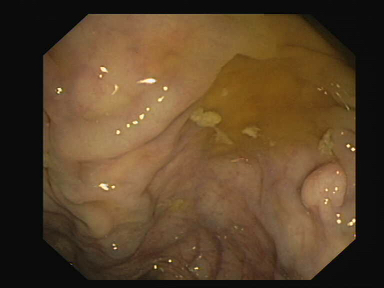polyp: (298, 161, 349, 217)
